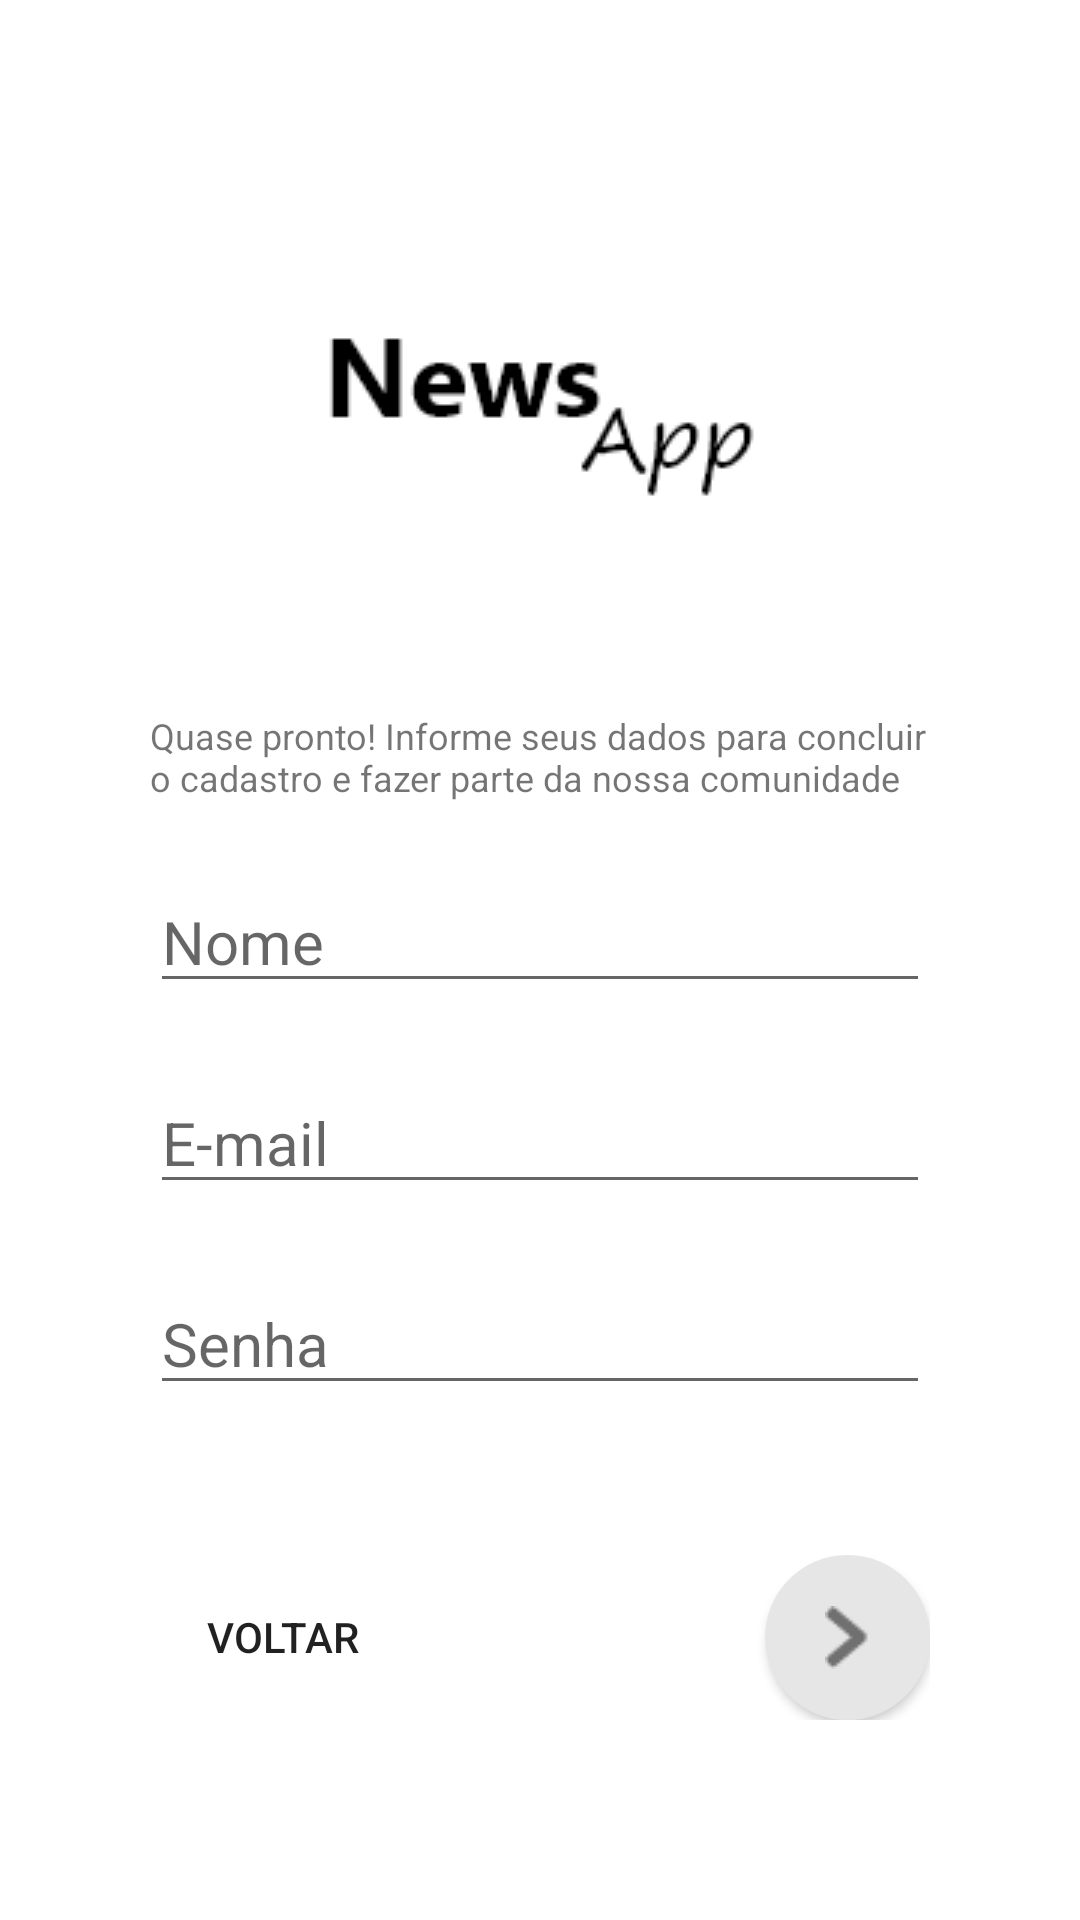

Locate icon controls on the screen. Image size 1080x1920, boxes as (x1, y1, x2, y2).
right: (765, 1555, 930, 1720)
